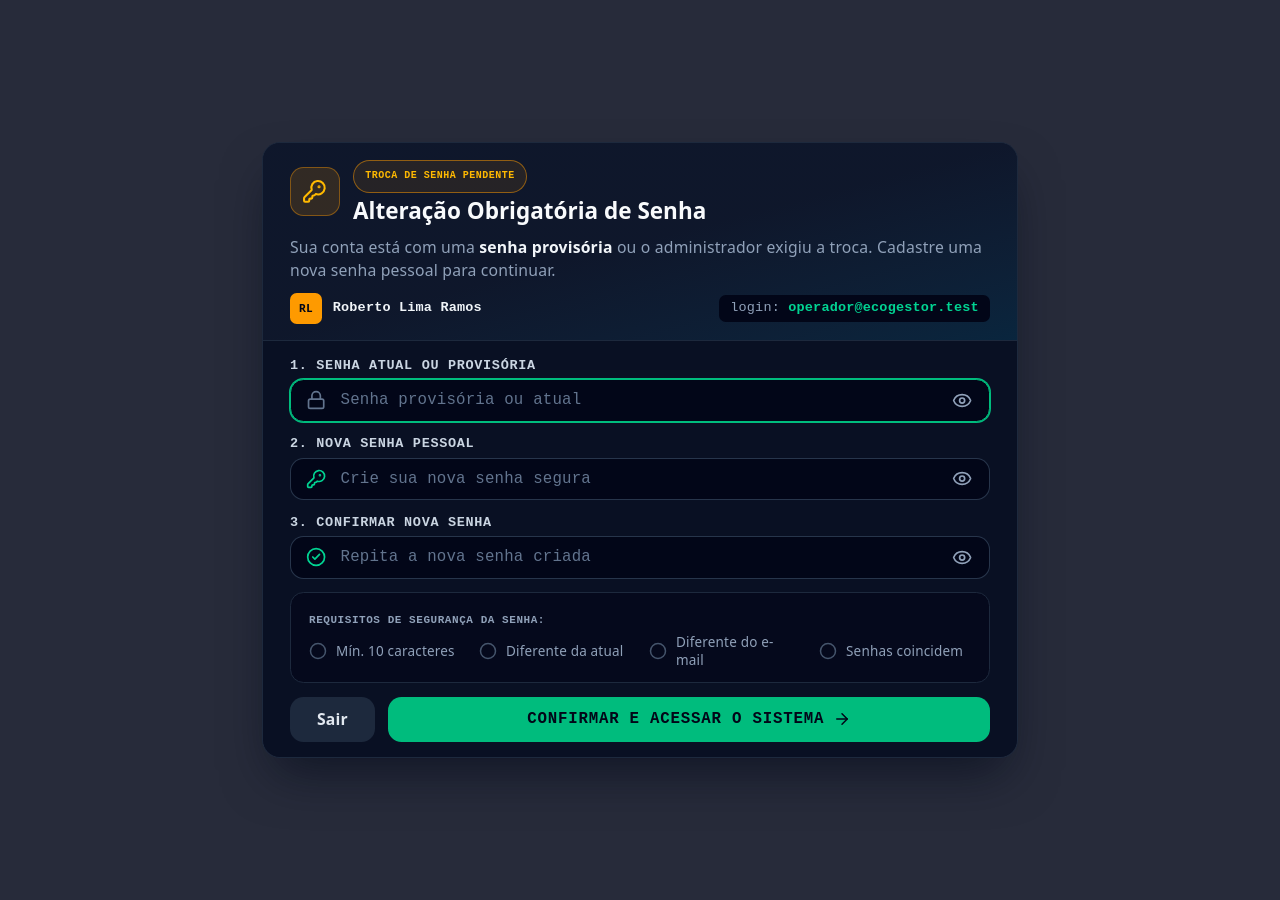
Test: TrocaSenhaObrigatoriaModal › não envia uma nova senha fora das regras
This screenshot has width=1280, height=900.
Type "provisoria-123" into the password field labelled "1. Senha atual ou provisória". click: (640, 400)
box: left=290, top=379, right=990, bottom=422
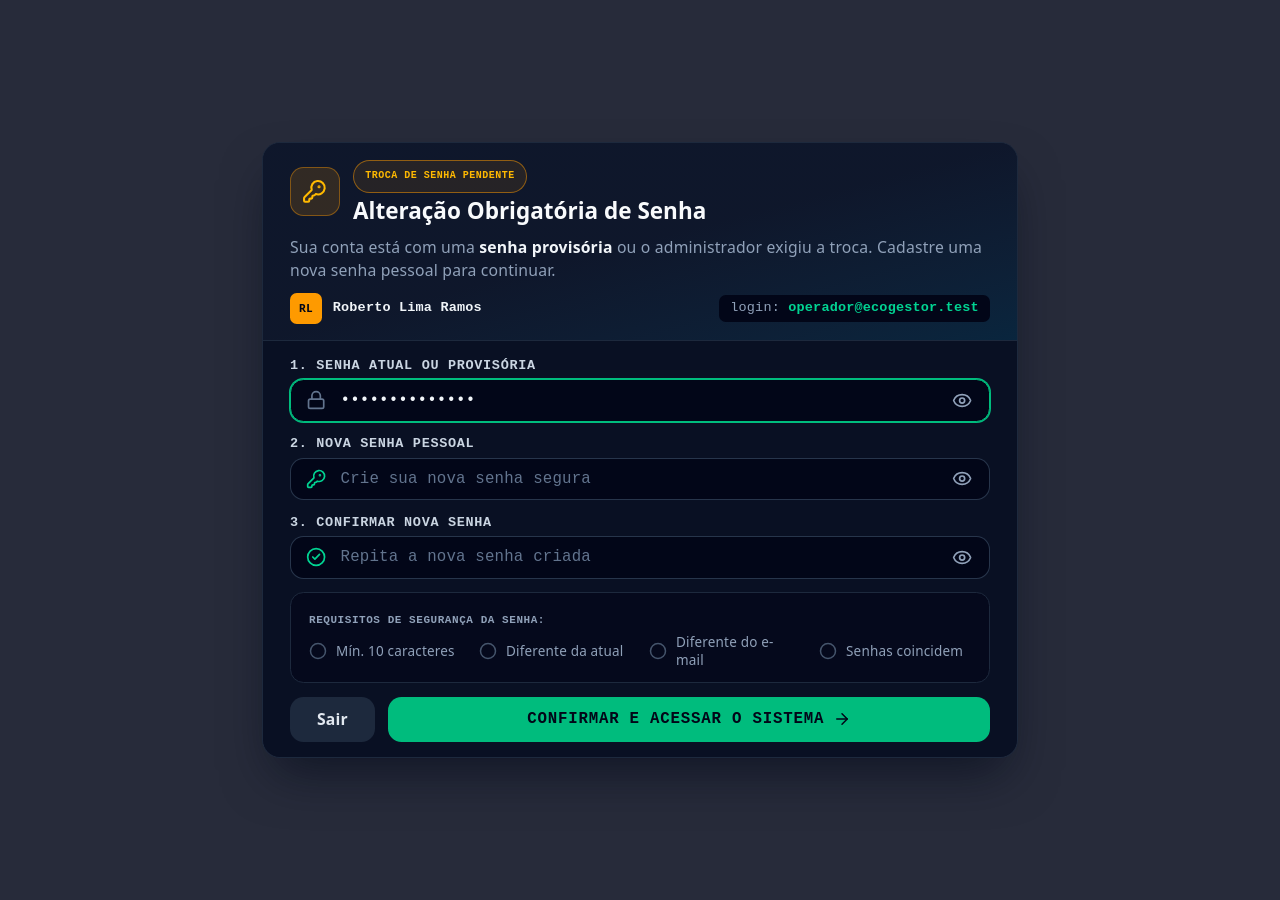
Type "curta" into the password field labelled "2. Nova senha pessoal". click: (640, 479)
box: left=290, top=458, right=990, bottom=500
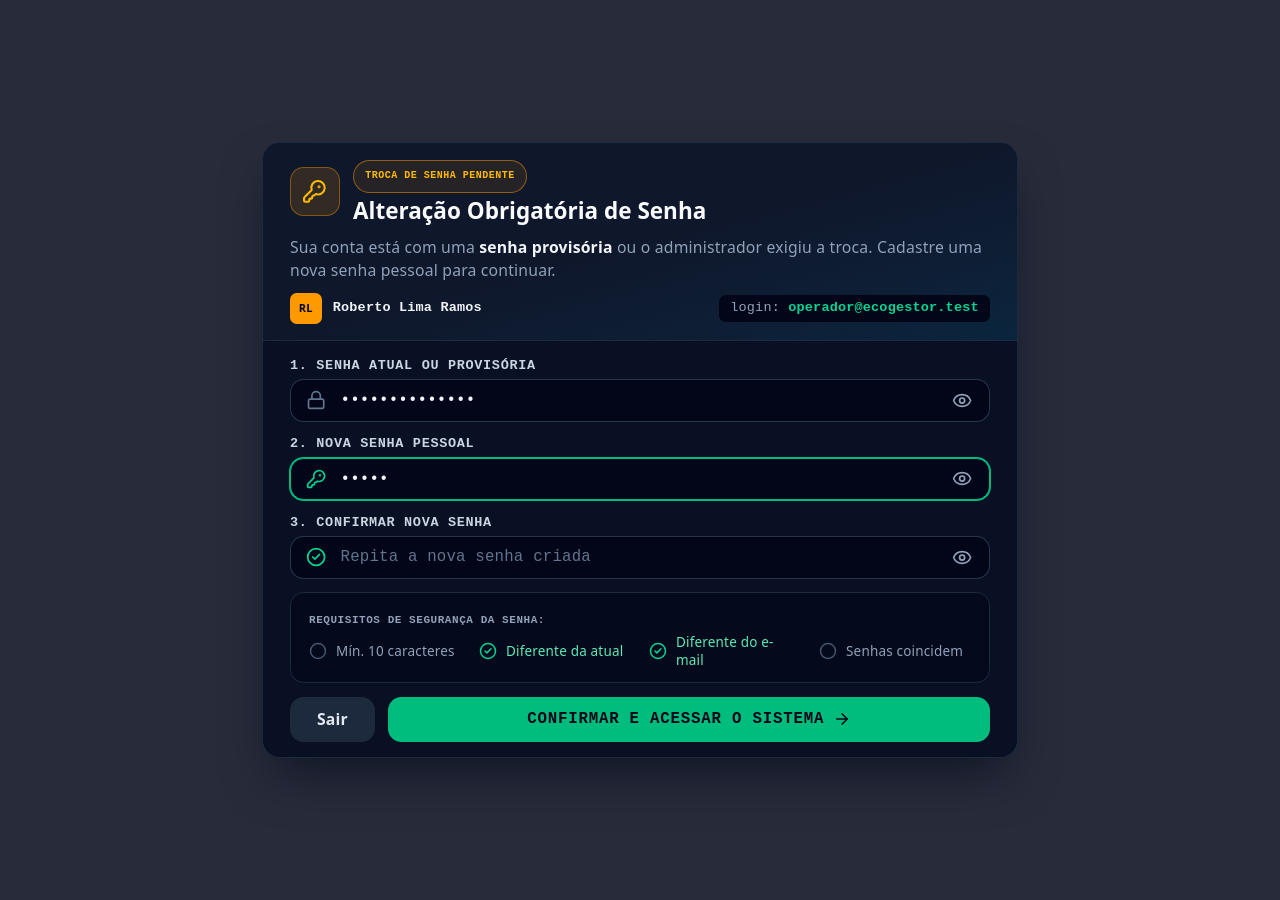
Type "curta" into the password field labelled "3. Confirmar nova senha". click: (640, 557)
box: left=290, top=536, right=990, bottom=579
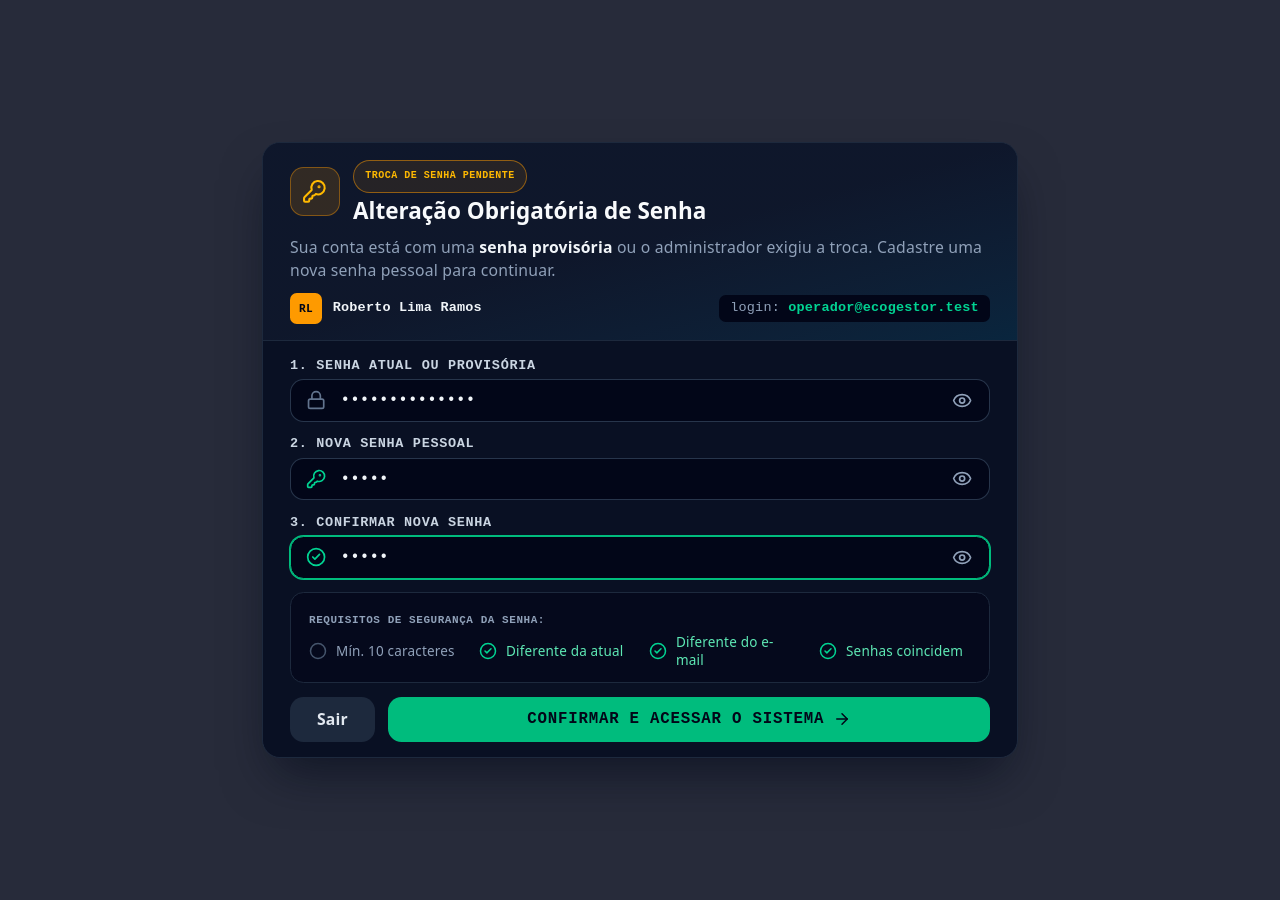
Click the button "Confirmar e acessar o sistema". click: (689, 719)
box: left=388, top=697, right=990, bottom=742
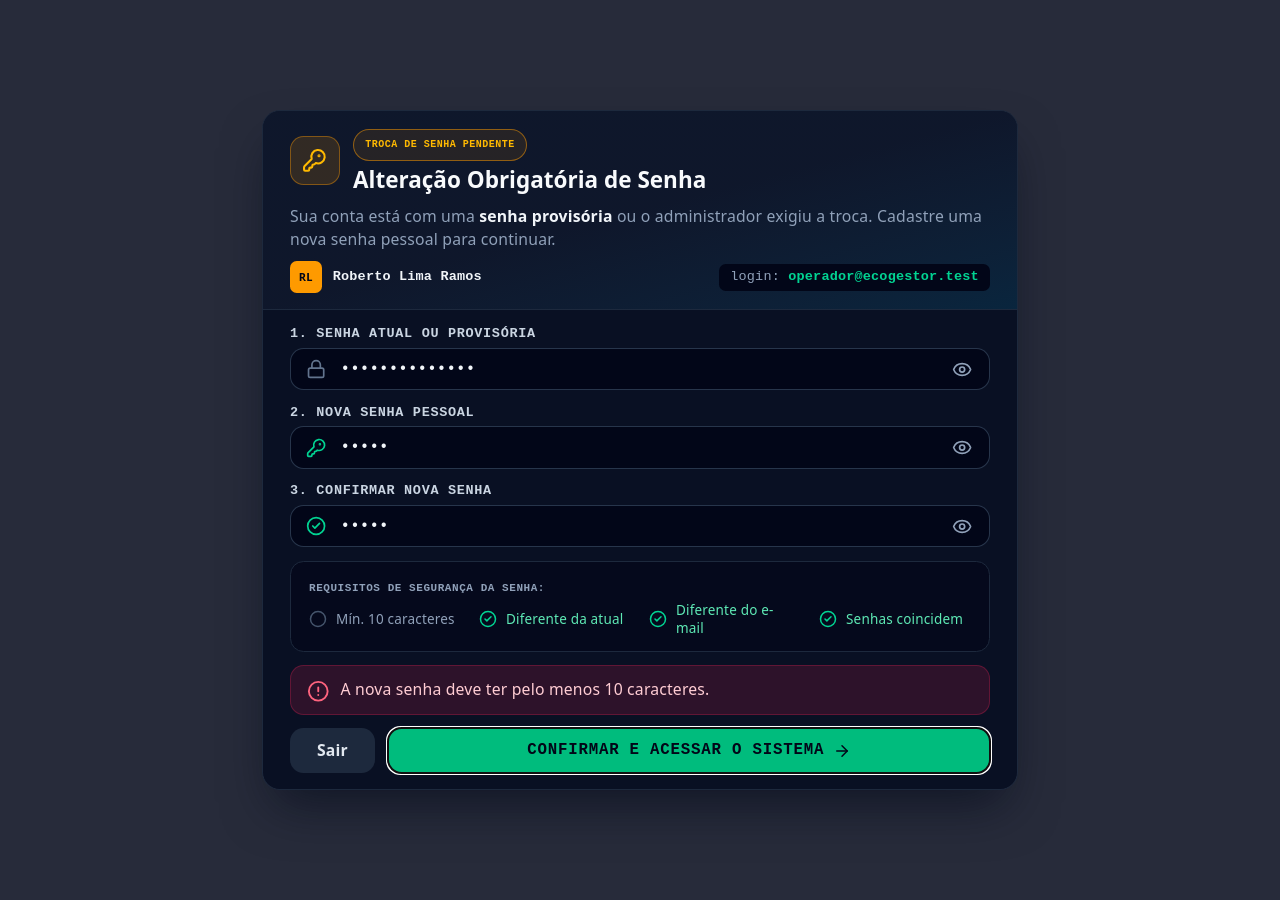
Result: the message reads "A nova senha deve ter pelo menos 10 caracteres." at left=340, top=678, right=710, bottom=700
